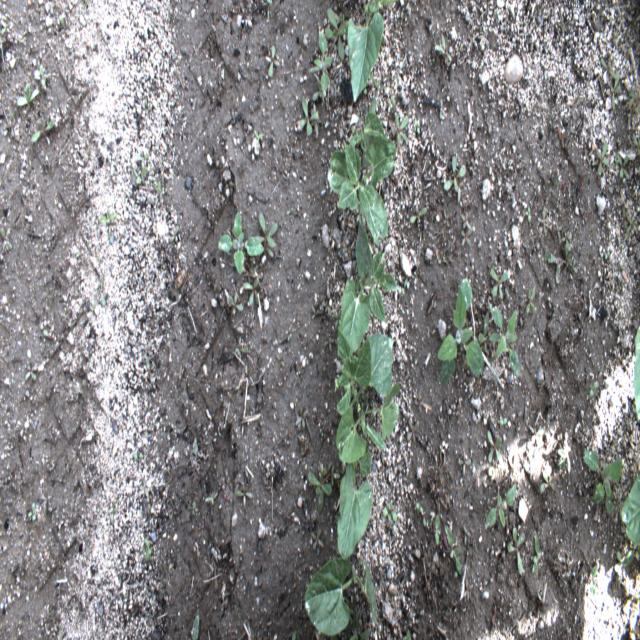crop: (327, 97, 396, 248), (337, 217, 402, 360), (335, 324, 399, 464), (304, 554, 376, 635), (347, 1, 396, 104), (337, 435, 373, 561), (620, 472, 640, 545)
weed: (437, 278, 485, 387), (478, 296, 521, 377), (218, 212, 266, 274), (584, 448, 622, 514), (307, 461, 341, 511), (484, 480, 517, 530), (324, 8, 349, 63), (312, 32, 332, 100), (252, 212, 278, 256), (295, 95, 320, 138), (444, 524, 463, 575), (443, 155, 467, 193), (507, 526, 525, 576), (488, 429, 505, 472), (531, 532, 546, 576), (614, 550, 634, 582), (32, 115, 54, 144), (391, 115, 409, 148), (433, 35, 453, 63), (17, 84, 39, 109), (244, 276, 261, 308), (596, 140, 610, 178), (100, 207, 116, 239), (490, 270, 507, 300), (266, 42, 280, 78), (628, 88, 640, 130), (408, 199, 427, 224), (610, 71, 622, 110), (34, 63, 50, 89), (228, 290, 243, 316), (617, 154, 631, 180), (525, 287, 537, 317), (132, 166, 149, 187), (382, 501, 398, 522), (24, 362, 38, 381), (561, 231, 570, 251)
